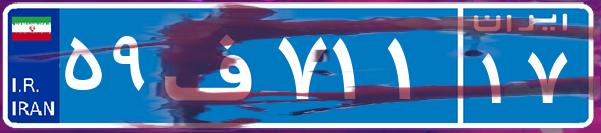1: (385, 28, 445, 110), (330, 28, 385, 110), (475, 38, 525, 113)
5: (57, 26, 110, 107)
7: (273, 28, 330, 110), (525, 38, 570, 115)
9: (110, 28, 158, 105)
ف: (158, 15, 273, 115)
